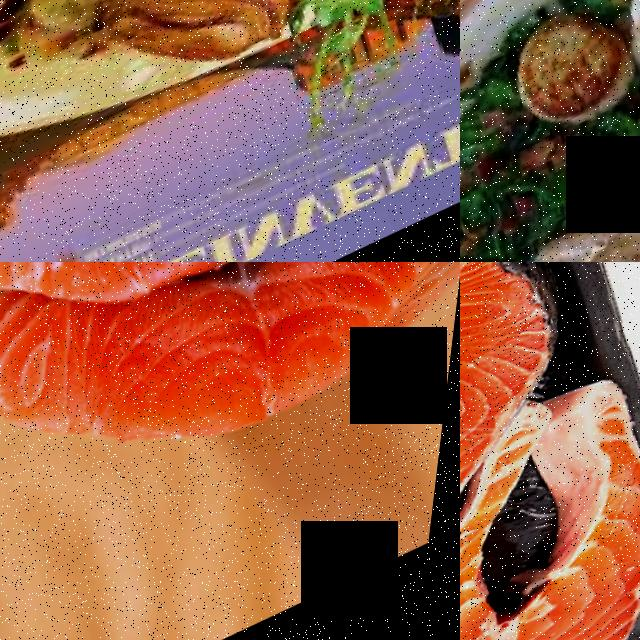salmon: (0, 262, 460, 538), (0, 262, 446, 374), (460, 262, 587, 544), (460, 503, 640, 640)
sea scallops: (500, 0, 640, 148)
